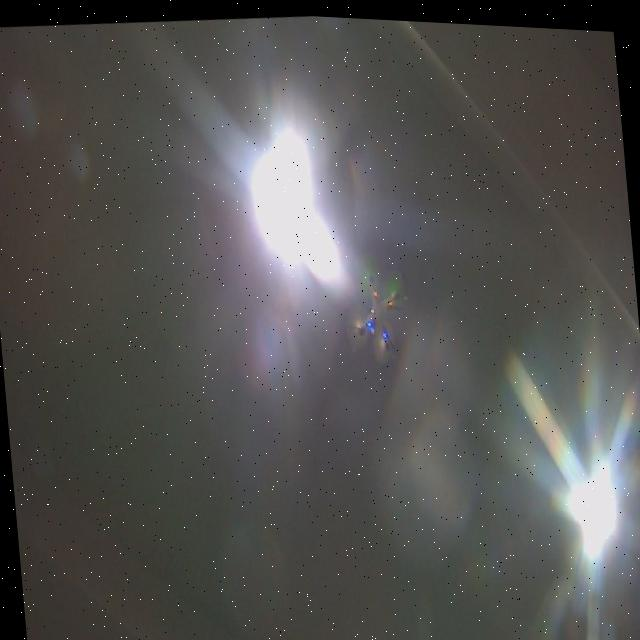drone: (334, 239, 418, 370)
